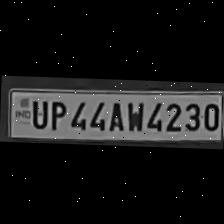0: (200, 100, 220, 132)
2: (161, 98, 181, 132)
3: (182, 98, 200, 132)
4: (66, 97, 88, 131), (86, 98, 106, 132), (144, 98, 162, 132)
A: (105, 98, 124, 132)
P: (46, 97, 66, 131)
U: (28, 96, 46, 129)
W: (123, 98, 143, 132)
